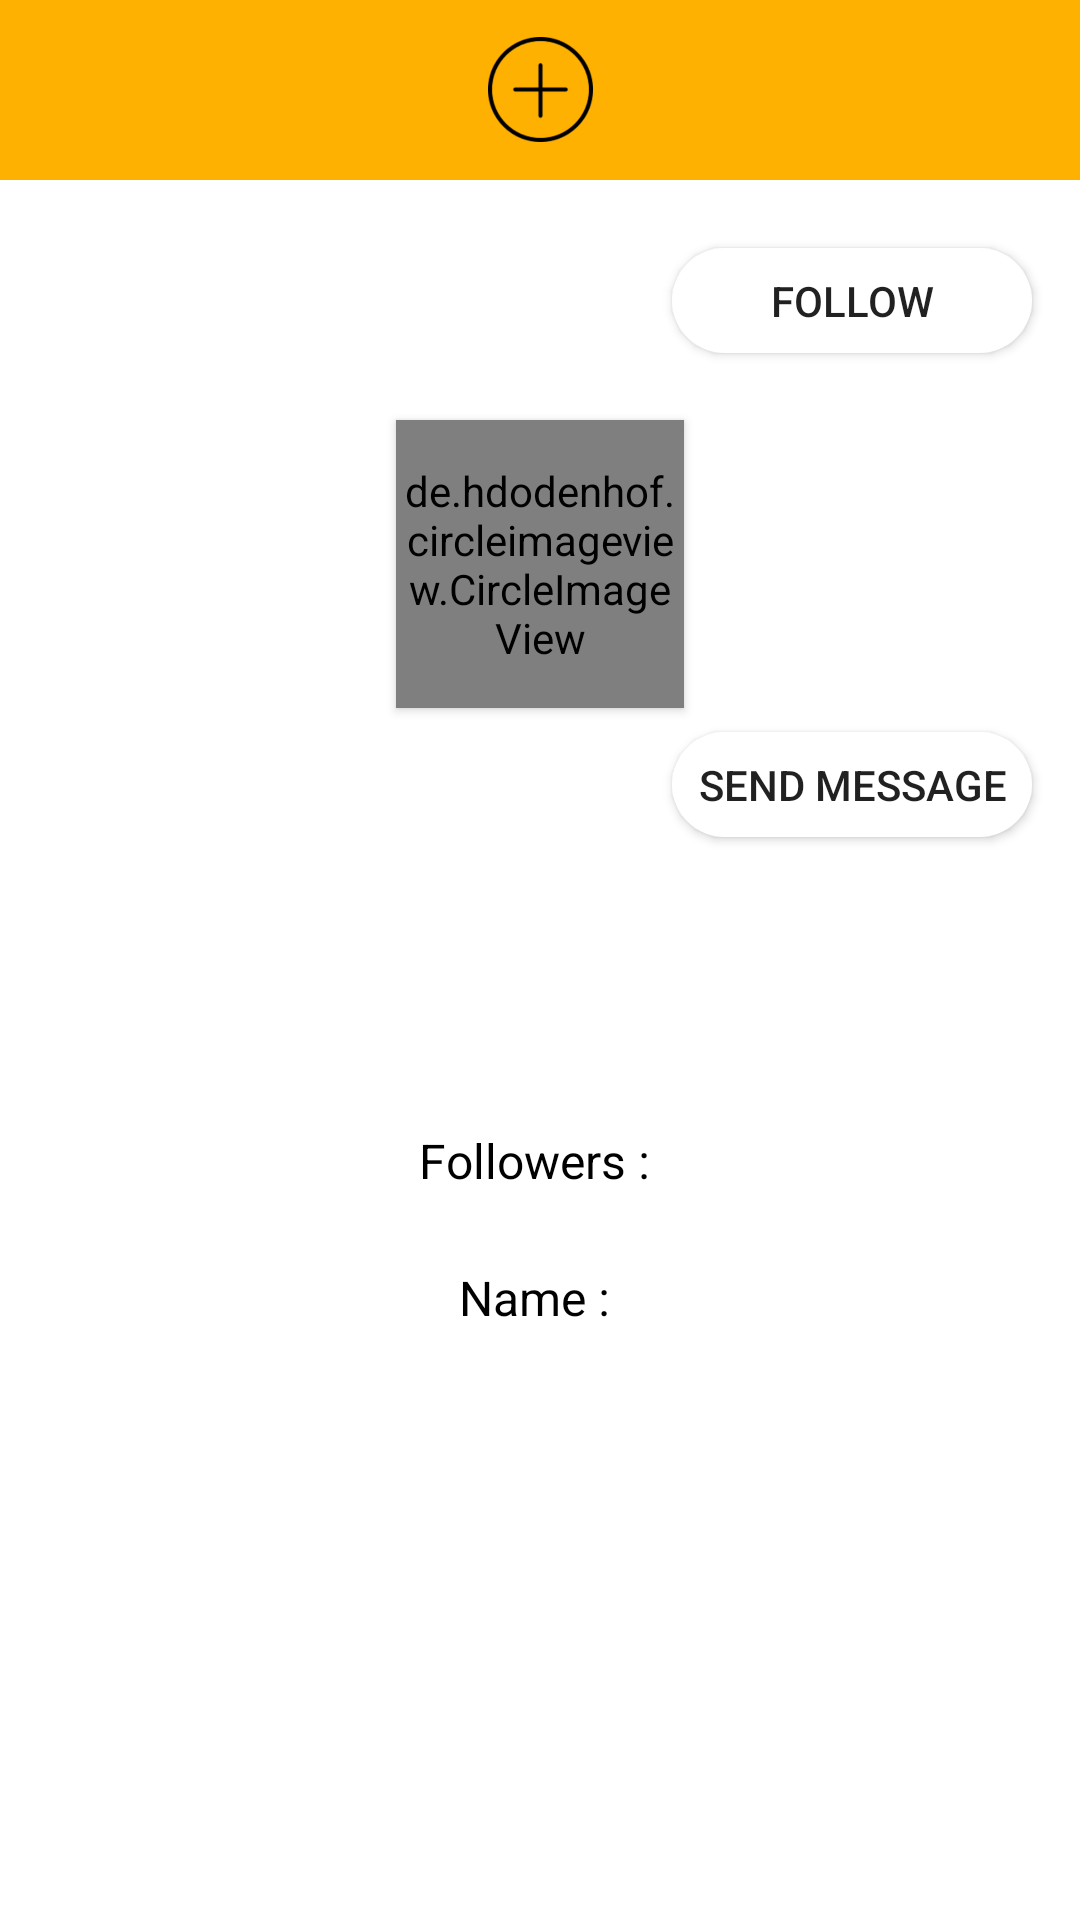

Screen size 1080px x 1920px. Icon name, then its box in pixels as (x1, y1, x2, y2):
plus: (488, 37, 593, 142)
